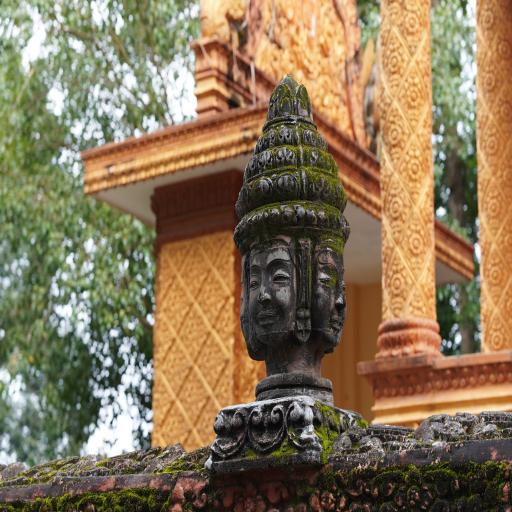hoa: (408, 157, 423, 184), (388, 53, 404, 75), (410, 232, 424, 256), (404, 16, 421, 35), (484, 135, 500, 154), (488, 266, 504, 284), (390, 272, 404, 292), (490, 330, 504, 350), (390, 195, 403, 216), (501, 101, 512, 125), (408, 86, 420, 108), (482, 12, 495, 31), (487, 198, 500, 217), (484, 74, 498, 90), (499, 40, 509, 61), (504, 230, 512, 254), (391, 129, 402, 146)
la: (247, 404, 288, 452), (287, 400, 324, 451), (212, 409, 246, 452), (250, 177, 271, 205), (275, 170, 296, 195), (276, 146, 296, 168), (278, 122, 295, 144), (262, 128, 277, 149), (257, 150, 274, 168)
than: (208, 65, 371, 463), (246, 239, 301, 341), (310, 234, 349, 344), (235, 250, 253, 354)
